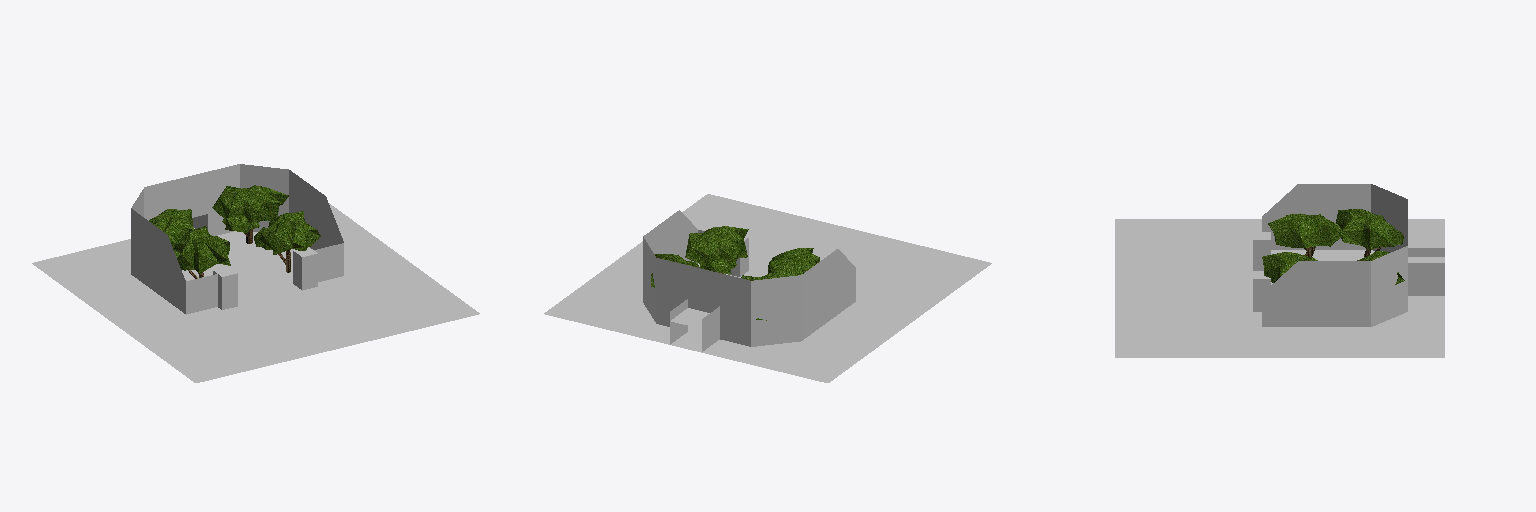
3 views of the same model, side by side, from view 1: azimuth 30°, elevation 25°; view 2: azimuth 150°, elevation 25°; view 3: azimuth 270°, elevation 25° (orthographic).
Parts seen in each view (by area): view 1: plane_selection_selection, plane, trunks_selection, cuboid; view 2: plane_selection_selection, plane, trunks_selection; view 3: plane_selection_selection, plane, trunks_selection, cuboid.
Boxes of the visible parts, <box> form: plane_selection_selection: <box>50,207,479,382</box>; plane: <box>32,164,343,314</box>; trunks_selection: <box>149,185,320,278</box>; cuboid: <box>213,247,317,309</box>; plane_selection_selection: <box>562,194,991,369</box>; plane: <box>544,210,855,382</box>; trunks_selection: <box>651,226,819,320</box>; plane_selection_selection: <box>1115,219,1444,357</box>; plane: <box>1262,184,1444,357</box>; trunks_selection: <box>1262,209,1404,284</box>; cuboid: <box>1253,232,1270,311</box>.
Size of the model in its own units: 72 by 16.25 by 72.
3 materials, 2 textured.